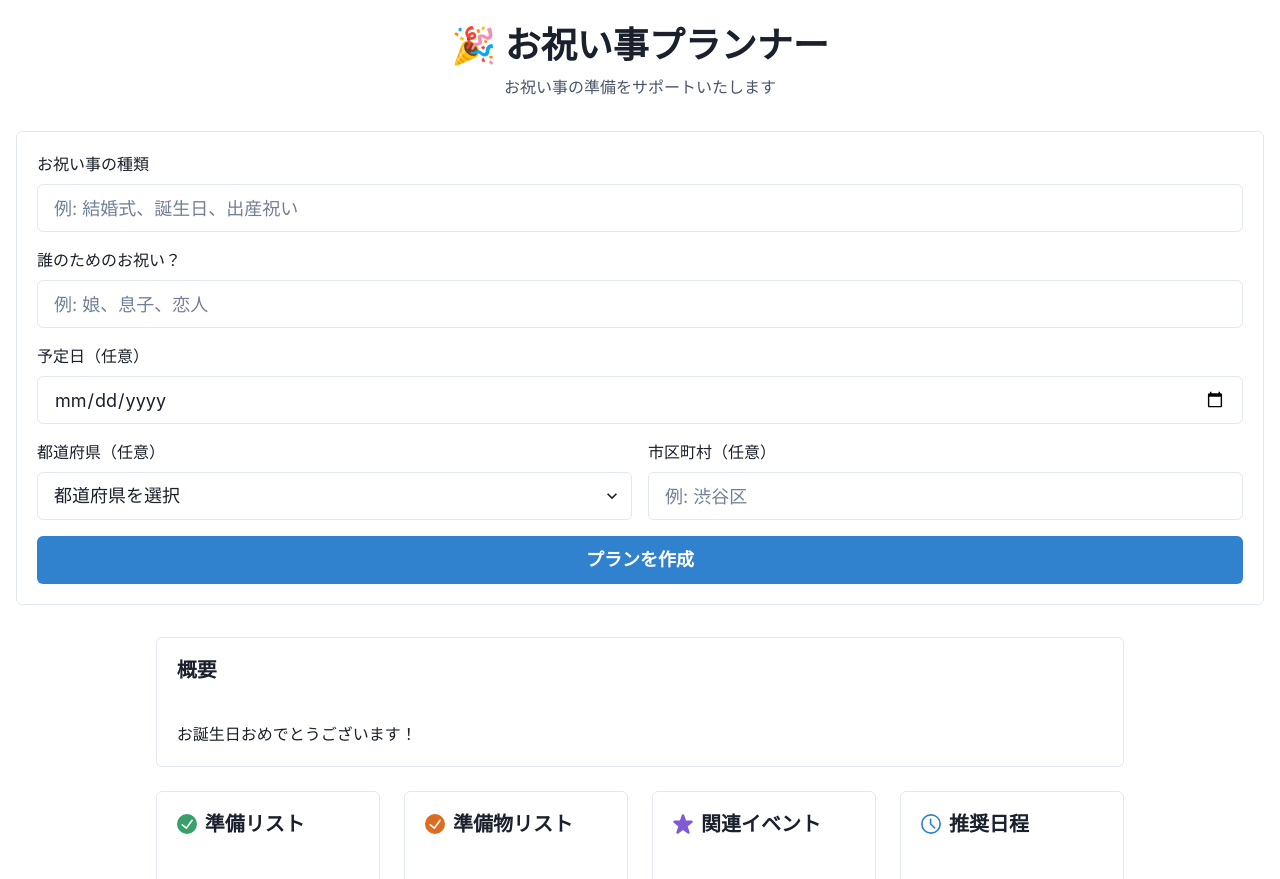
Test: 準備物リストの詳細 › モーダルが表示され、内容が表示されること
The width and height of the screenshot is (1280, 879).
Note: フォームに入力してプラン作成
In the field with placeholder "例: 結婚式、誕生日、出産祝い": [640, 208] box [37,184,1243,232], type "誕生日"
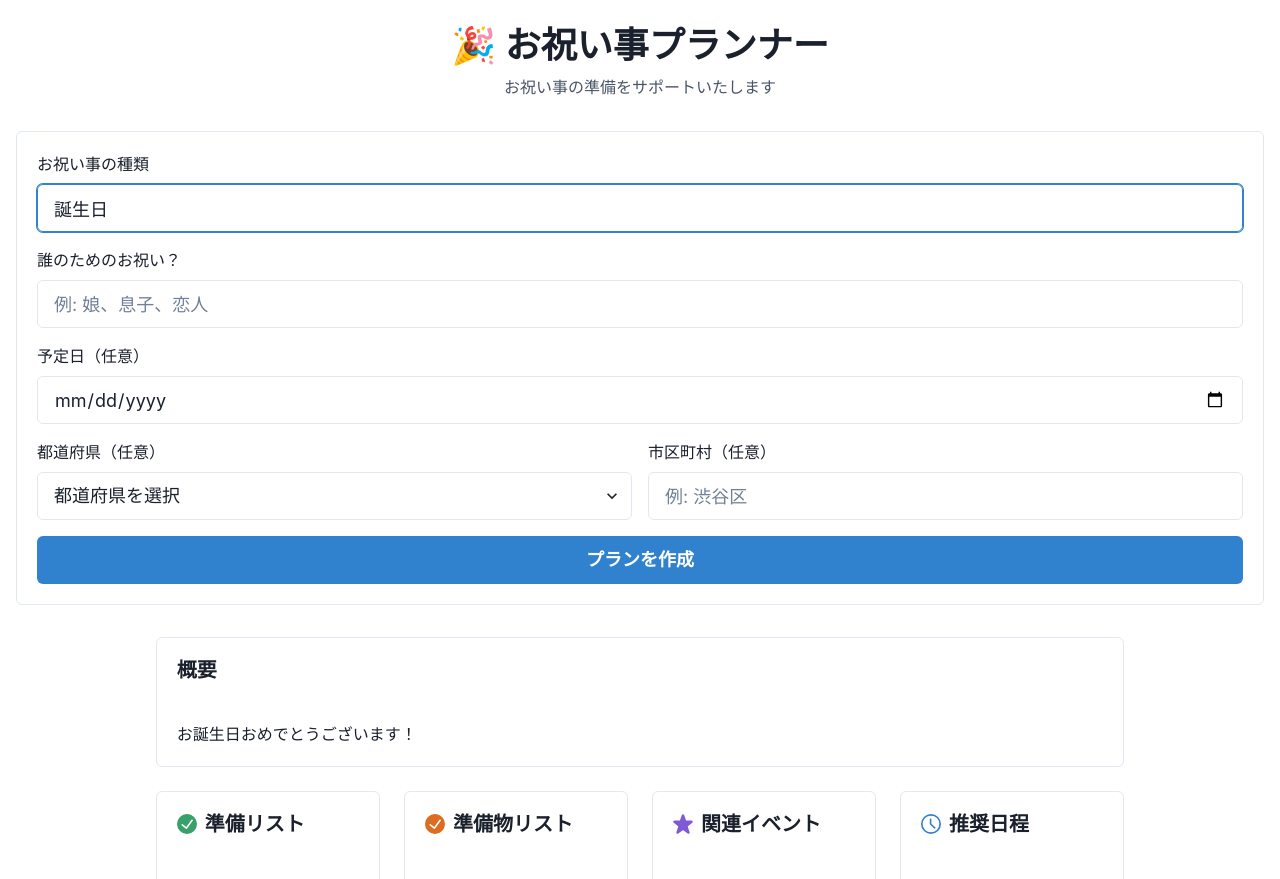
In the field with placeholder "例: 娘、息子、恋人": [640, 304] box [37,280,1243,328], type "娘"
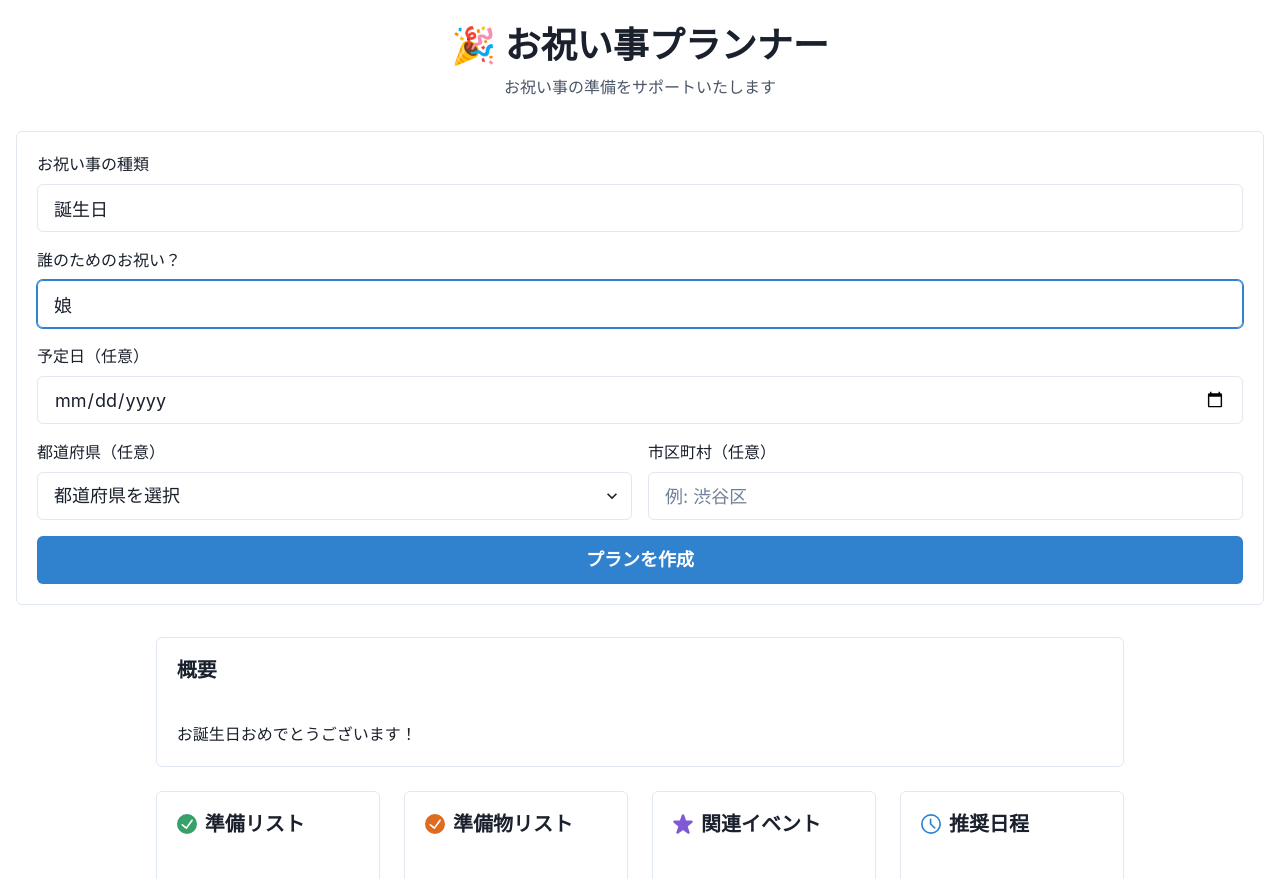
Click the button "プランを作成": [640, 560] box [37,536,1243,584]
(page scrolled)
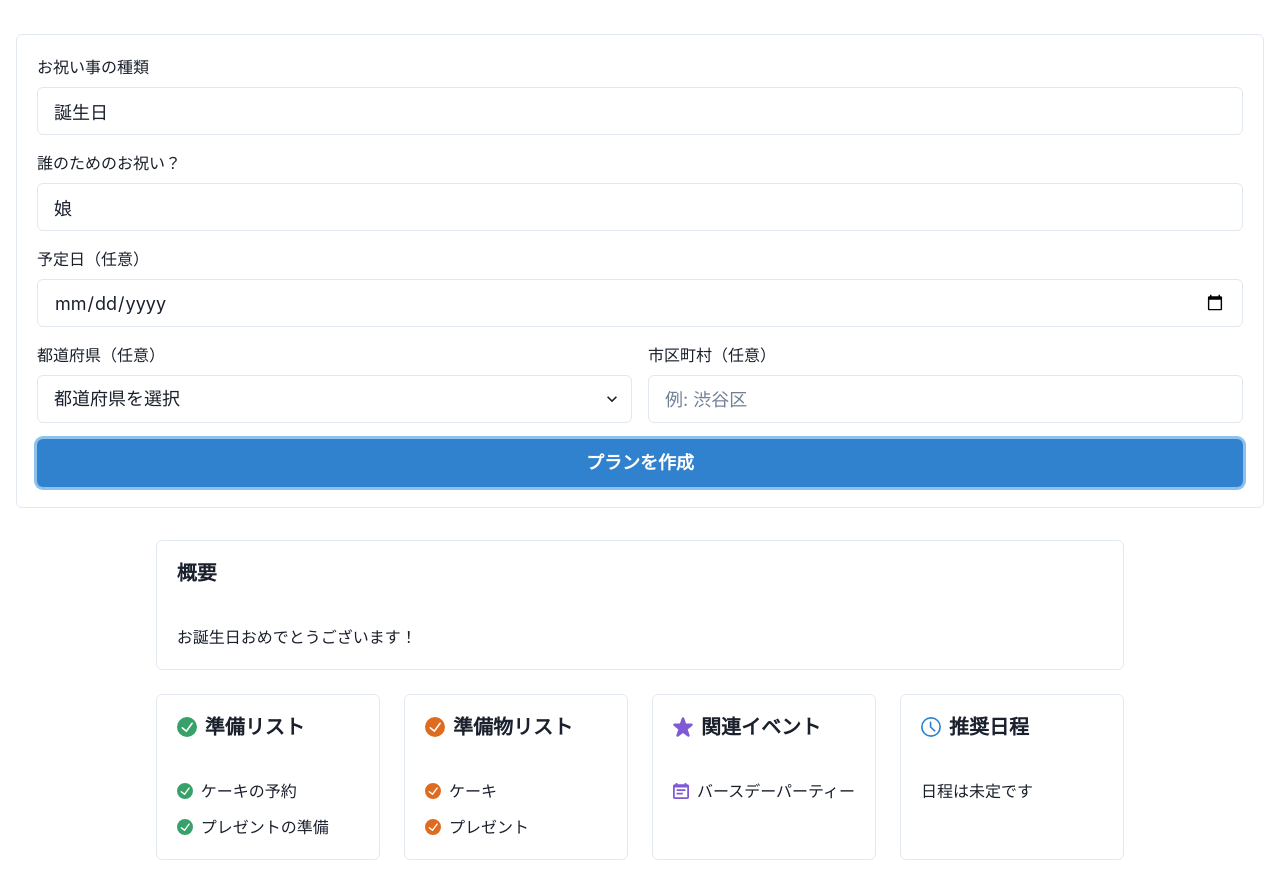
Note: 準備リストの項目をクリック
Click the list item "ケーキ": [461, 791] box [425,781,497,801]
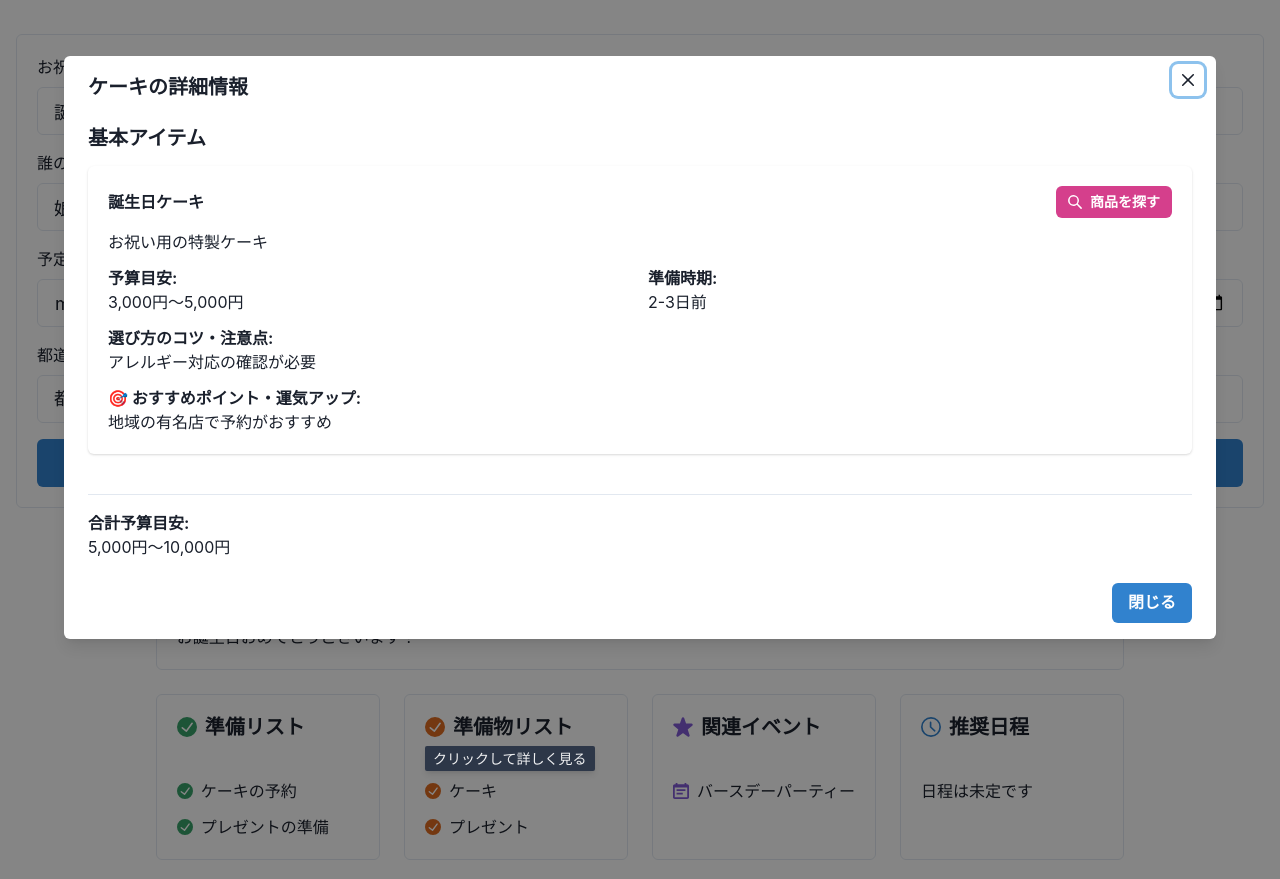
Expected: the heading "基本アイテム" is shown, [88,126,206,150]
Expected: the text "誕生日ケーキ" is shown, [108,192,204,212]
Expected: the text "お祝い用の特製ケーキ" is shown, [108,232,268,252]
